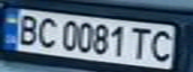0: (57, 18, 81, 52), (75, 20, 93, 54)
1: (109, 23, 130, 57)
8: (90, 21, 112, 56)
B: (12, 11, 42, 46)
C: (145, 27, 181, 62), (33, 15, 60, 48)
T: (127, 25, 154, 61)
